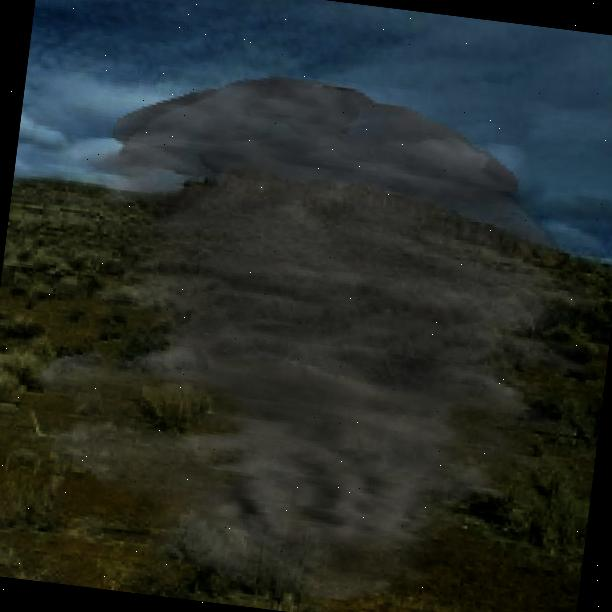smoke: (15, 52, 612, 612)
